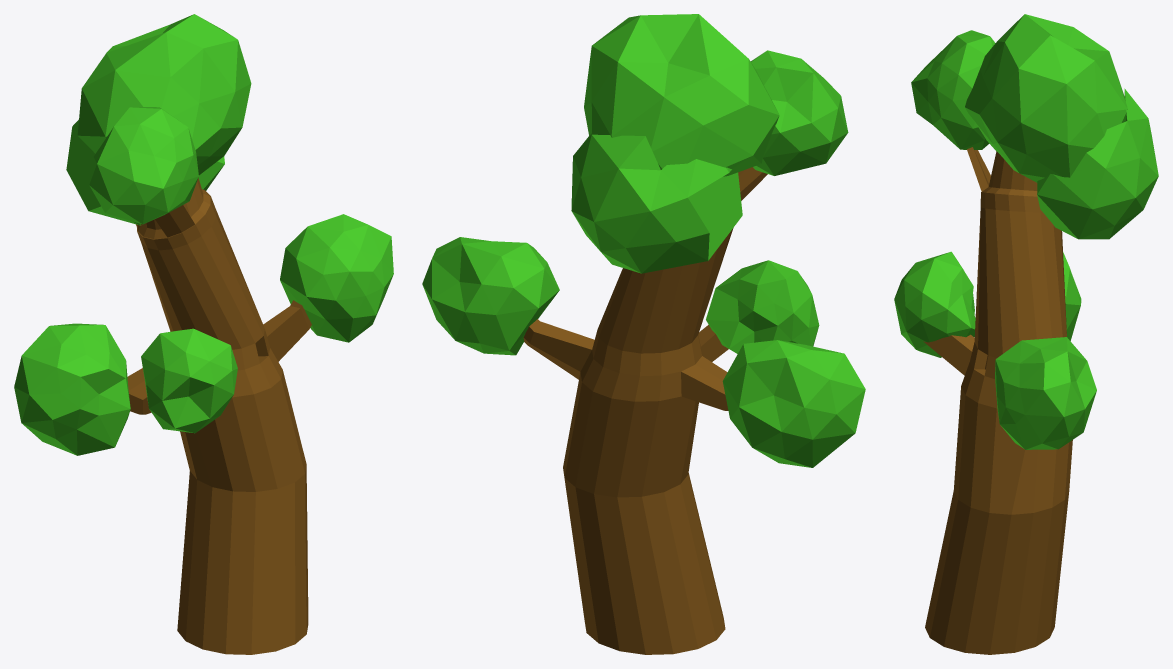
The model's file is tree.fbx.
3 views of the same model, side by side, from view 1: azimuth 30°, elevation 25°; view 2: azimuth 150°, elevation 25°; view 3: azimuth 270°, elevation 25° (orthographic). The views are drawn at different scales.
Visible parts, largest first — view 1: Icosphere; view 2: Icosphere; view 3: Icosphere.
Boxes of the visible parts, left/top/right/bottom form: Icosphere: left=14, top=14, right=393, bottom=654; Icosphere: left=422, top=14, right=865, bottom=654; Icosphere: left=894, top=14, right=1158, bottom=654.
Size of the model in its own units: 670 by 995 by 408.
